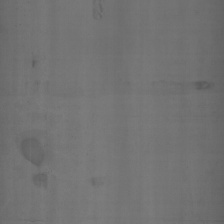oil_spot: (17, 122, 50, 192), (184, 71, 210, 93), (88, 1, 111, 23)
